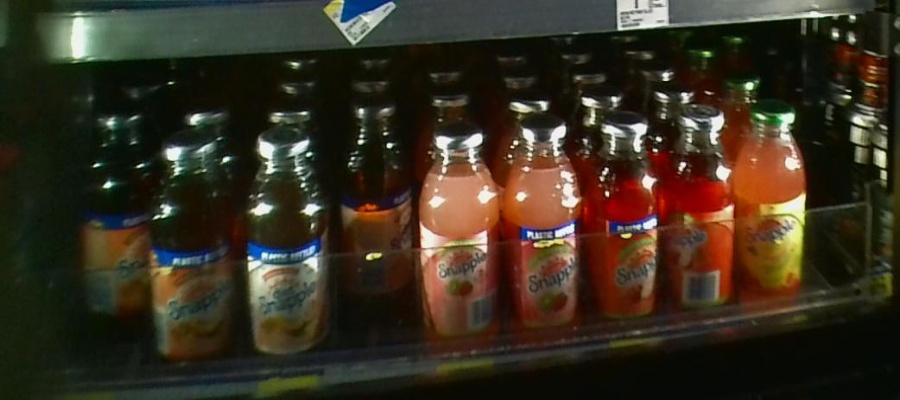bottle: (149, 135, 241, 373), (242, 122, 326, 374), (417, 115, 503, 349), (505, 101, 583, 353), (330, 95, 413, 330), (658, 93, 734, 323), (585, 97, 658, 334), (735, 88, 810, 317), (75, 90, 147, 321)
